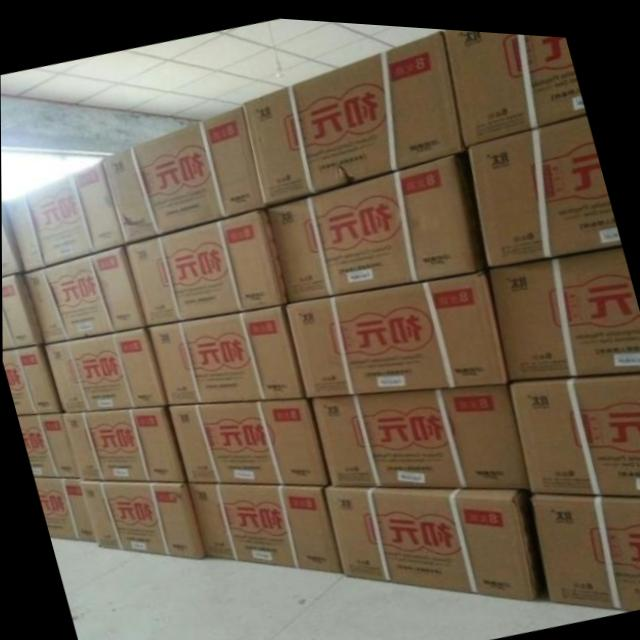box: (240, 23, 465, 203), (262, 144, 484, 298), (285, 265, 506, 394), (323, 481, 546, 594), (464, 105, 621, 260), (309, 376, 528, 483), (99, 101, 265, 242), (485, 237, 640, 375), (123, 204, 287, 324), (442, 23, 586, 141), (506, 363, 640, 488), (146, 298, 302, 402), (167, 394, 329, 480), (186, 479, 341, 568), (3, 158, 124, 271), (529, 485, 640, 603), (21, 242, 146, 342), (41, 324, 167, 412), (78, 479, 205, 556), (61, 402, 186, 479), (2, 343, 63, 415), (33, 475, 95, 540), (18, 412, 78, 478), (2, 273, 41, 350), (1, 201, 23, 277)
